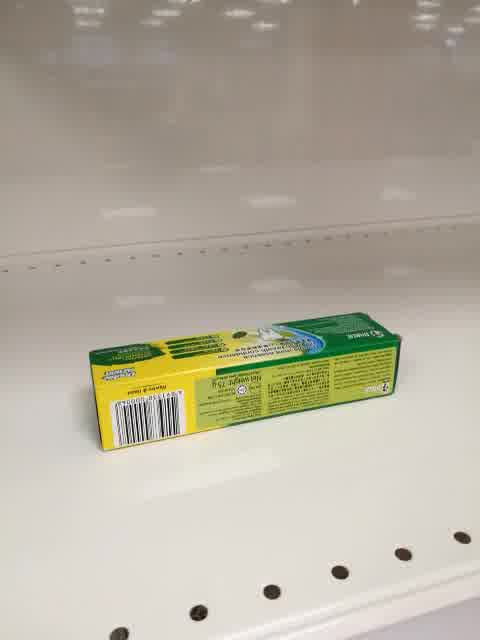toothpaste: (88, 310, 402, 454)
